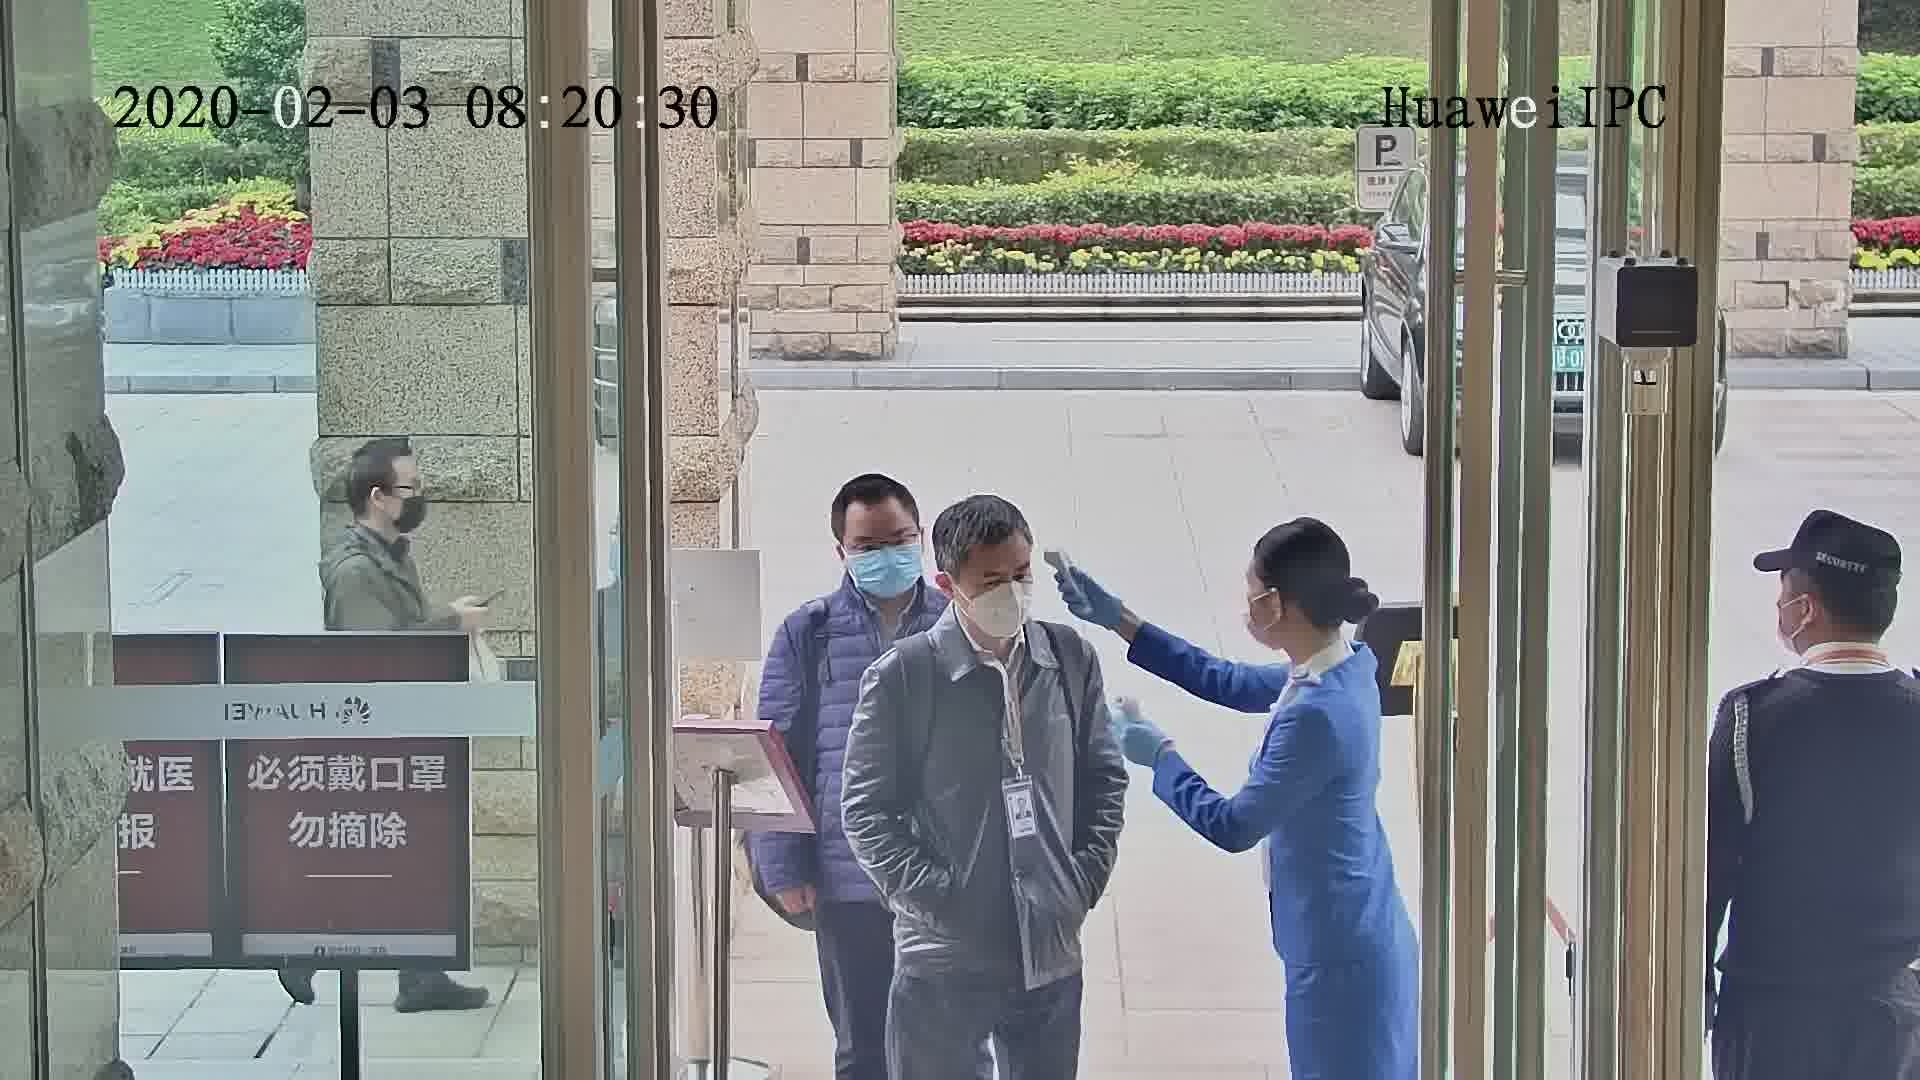face: (964, 529, 1038, 646), (843, 506, 927, 598), (387, 462, 423, 533)
mask: (838, 540, 929, 602), (974, 582, 1029, 640), (383, 495, 427, 535)
person: (1712, 507, 1920, 773), (880, 482, 1098, 697), (772, 468, 945, 678), (1246, 511, 1387, 764), (334, 425, 440, 585)
